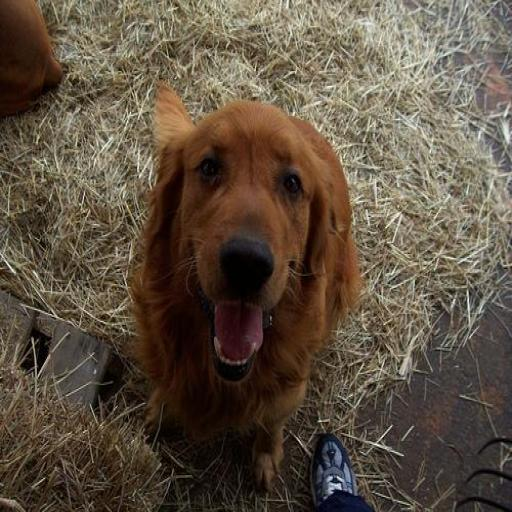dog_face: (174, 101, 333, 374)
